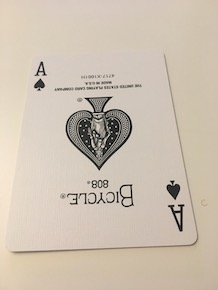AceOfSpades: (9, 46, 201, 256)
